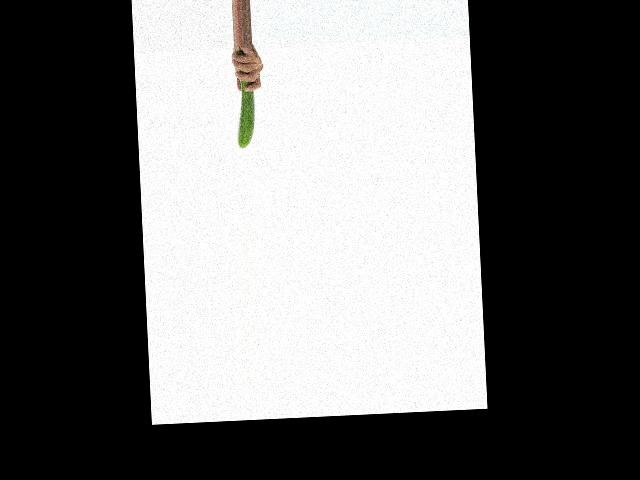cucumber: (232, 46, 256, 149)
